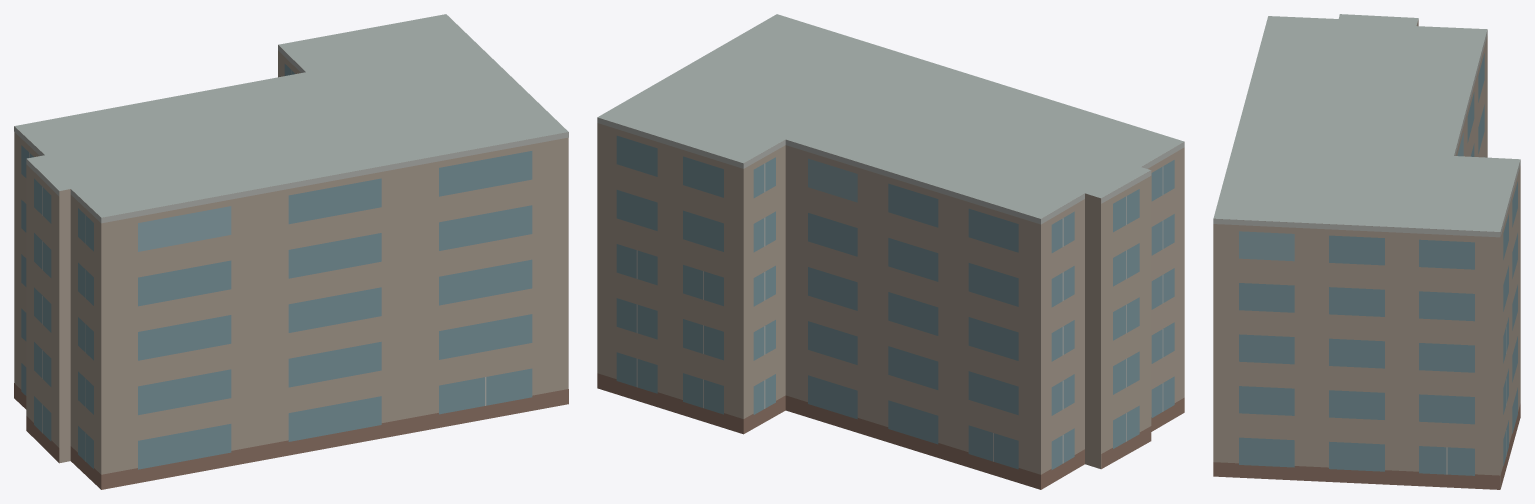
File: survey-upis-32679567.glb
3 renders of one model, left to right at view 1: azimuth 30°, elevation 25°; view 2: azimuth 150°, elevation 25°; view 3: azimuth 270°, elevation 25°, orthographic. The views are drawn at different scales.
Parts seen in each view (by area): view 1: survey-upis-32679567.tmp; view 2: survey-upis-32679567.tmp; view 3: survey-upis-32679567.tmp.
Boxes of the visible parts, <box> form: survey-upis-32679567.tmp: <box>14,14,568,489</box>; survey-upis-32679567.tmp: <box>597,14,1184,489</box>; survey-upis-32679567.tmp: <box>1213,14,1520,489</box>.
Bounding box in the file's own units: 21.6 × 11.9 × 12.86.
